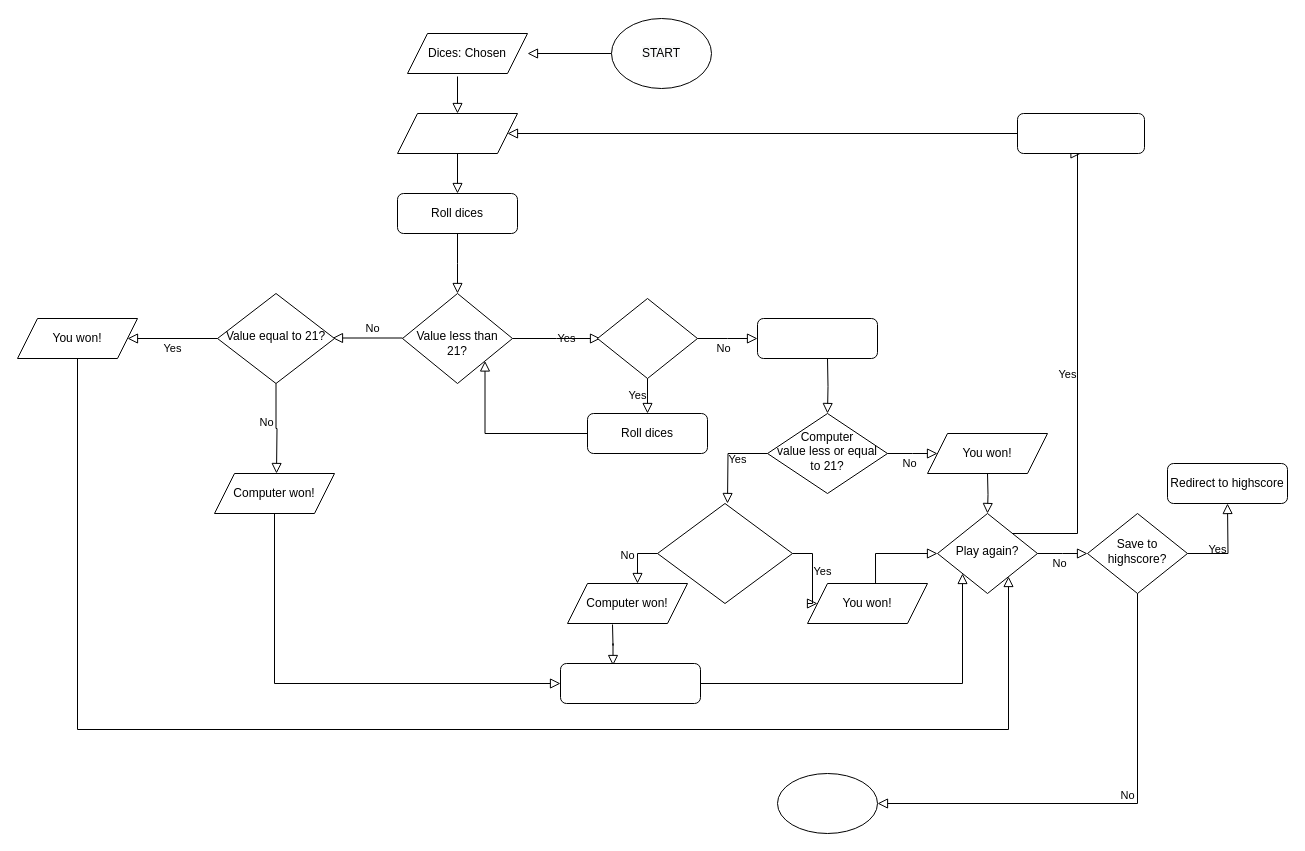
Image size: 1305x851. Some labels were removed from this diagram. The shapes that lost their labels are listed below. From the top down, each one's centre as x and y in pixels, then its label:
At point 457,133: "Bitcoin: Chosen".
At point 1080,133: "Increace your bitcoins decrease computer bitcoin".
At point 647,338: "Roll again?".
At point 817,338: "Computer plays".
At point 724,553: "Is your score higher than computers?".
At point 630,683: "Decreace your bitcoins increase computer bitcoin".
At point 827,803: "END".
